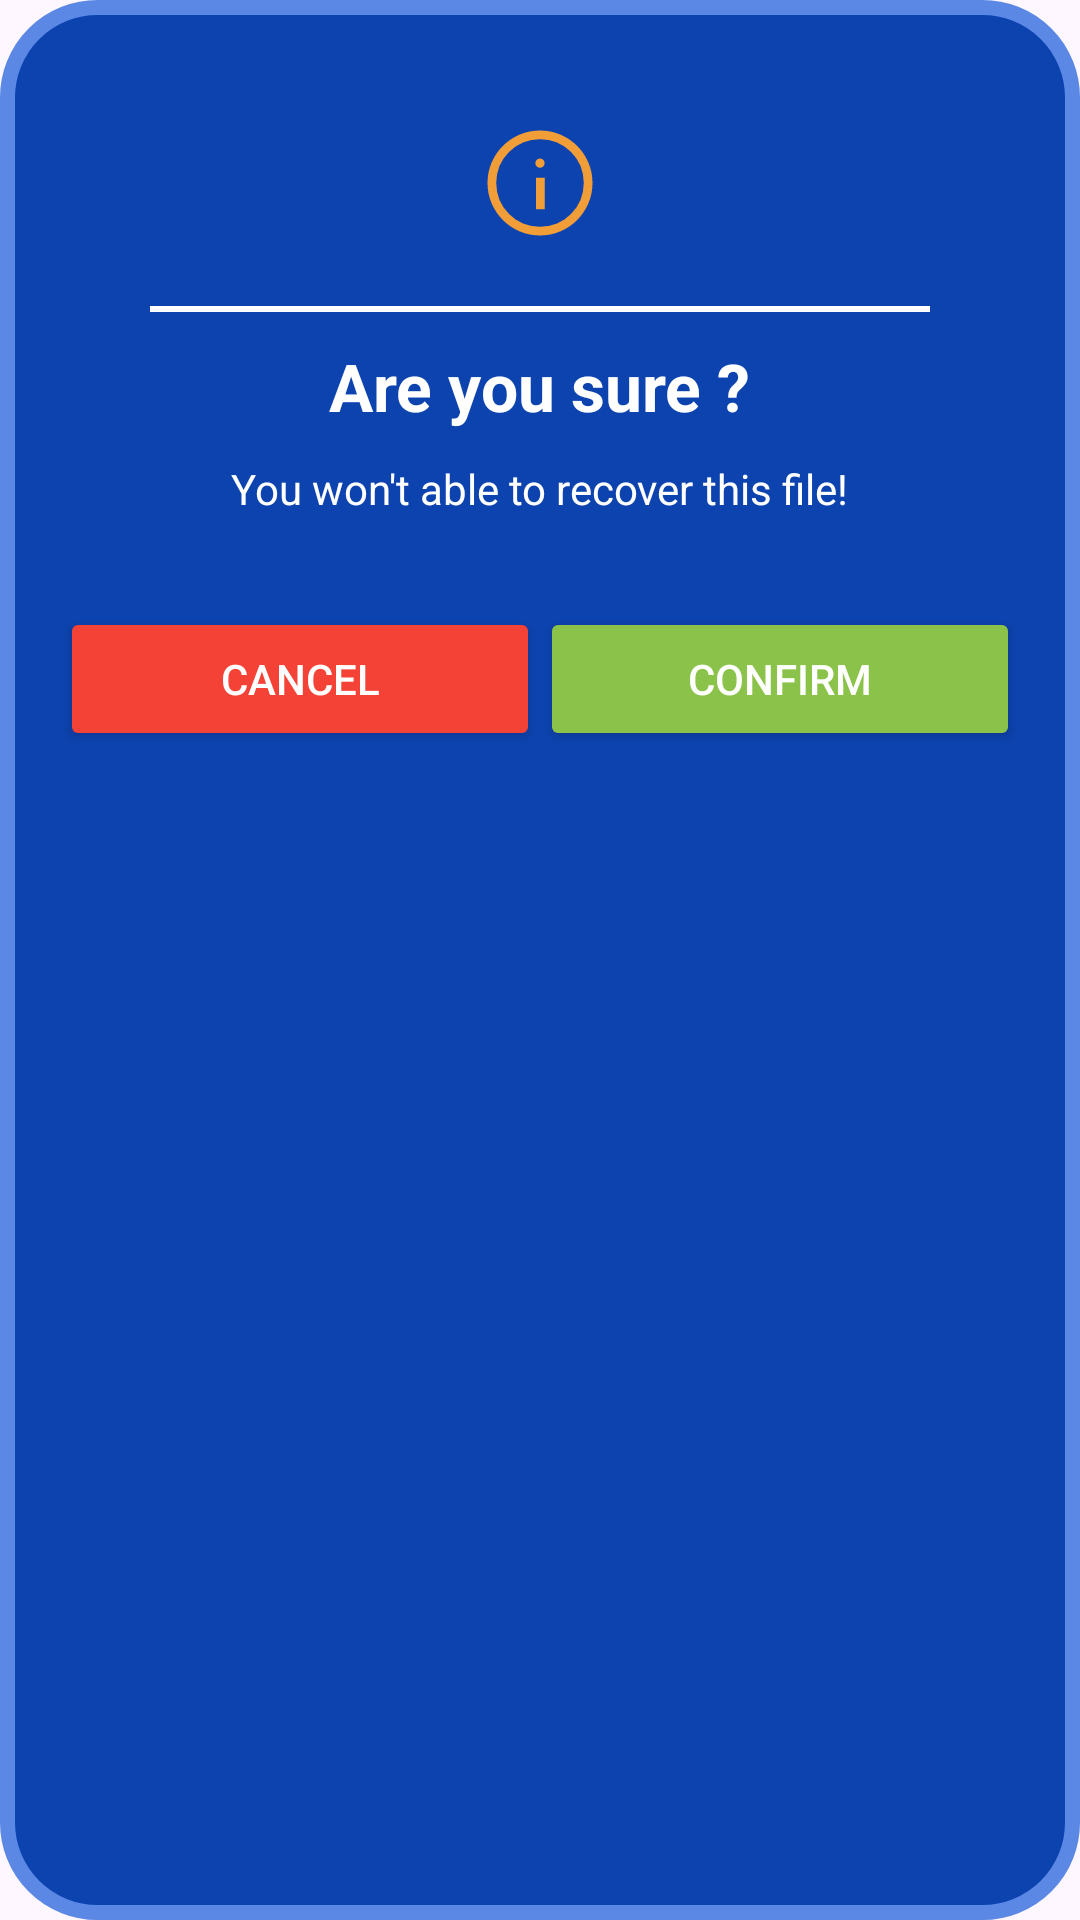

Point at icon controls on the screen. Image size 1080*1920, points as (x,y).
info: (540,183)
